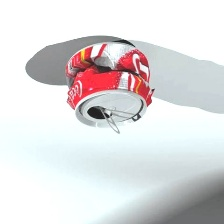can: (59, 35, 157, 135)
